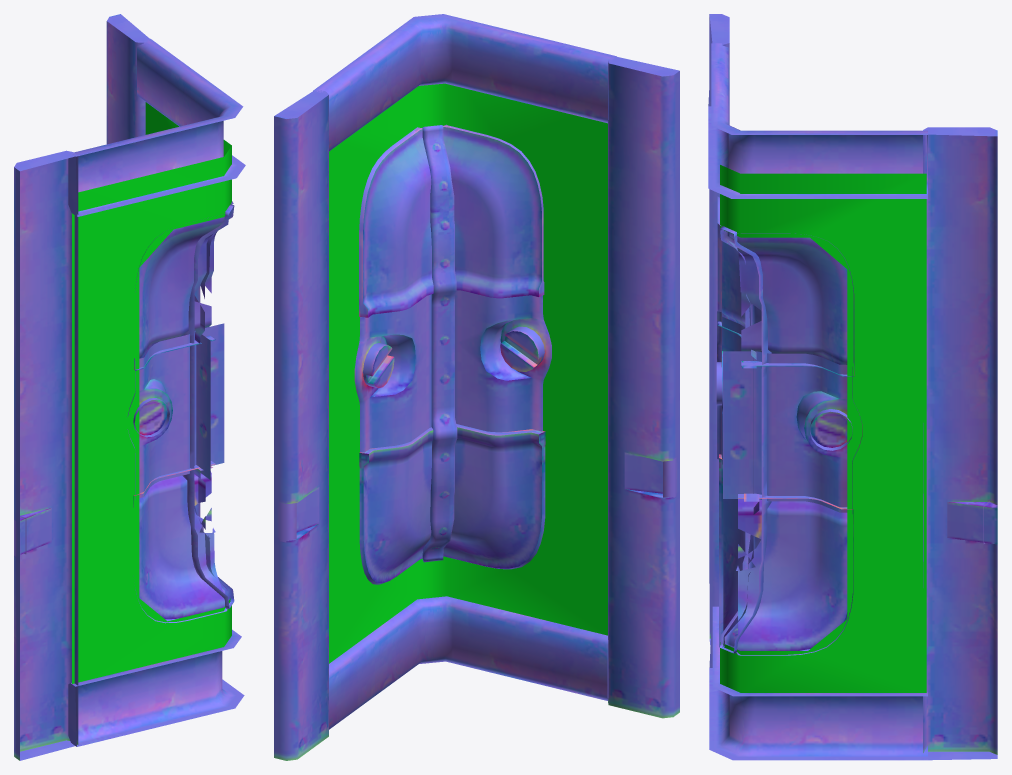
The model's file is Corner_Interior_Concave_200x500_B.fbx.
The picture shows the model from 3 angles, left to right: view 1: azimuth 30°, elevation 25°; view 2: azimuth 150°, elevation 25°; view 3: azimuth 270°, elevation 25°; orthographic projection. The views are drawn at different scales.
Parts seen in each view (by area): view 1: Geom_Corner_Interior_Concave_200x500_B_LOD00; view 2: Geom_Corner_Interior_Concave_200x500_B_LOD00; view 3: Geom_Corner_Interior_Concave_200x500_B_LOD00.
Part boxes in pixels (bbox=[...]): Geom_Corner_Interior_Concave_200x500_B_LOD00: bbox=[14, 14, 245, 760]; Geom_Corner_Interior_Concave_200x500_B_LOD00: bbox=[274, 14, 679, 760]; Geom_Corner_Interior_Concave_200x500_B_LOD00: bbox=[708, 14, 997, 760].
Size of what is drawn, in the model's own units: 210 by 500 by 210.
